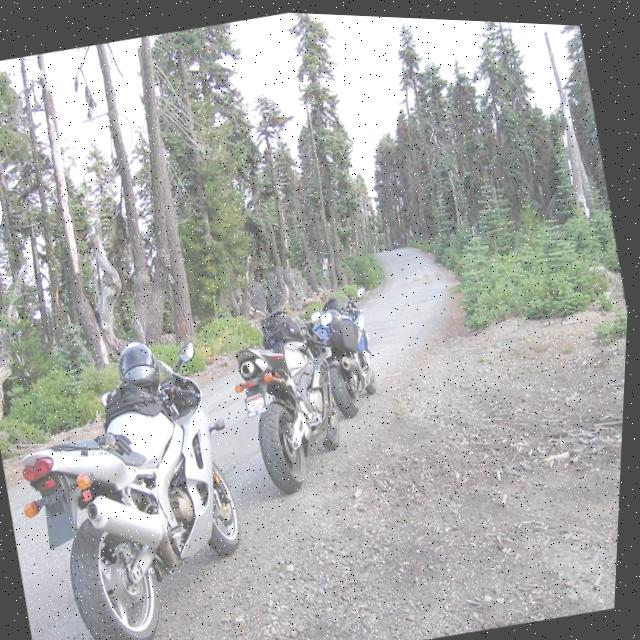motorcycle: (0, 319, 274, 640), (214, 305, 358, 504), (305, 278, 394, 422)
